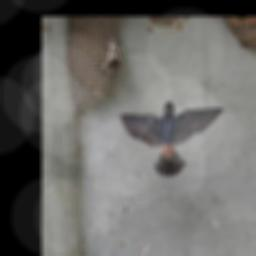Swallow: (120, 98, 227, 177)
